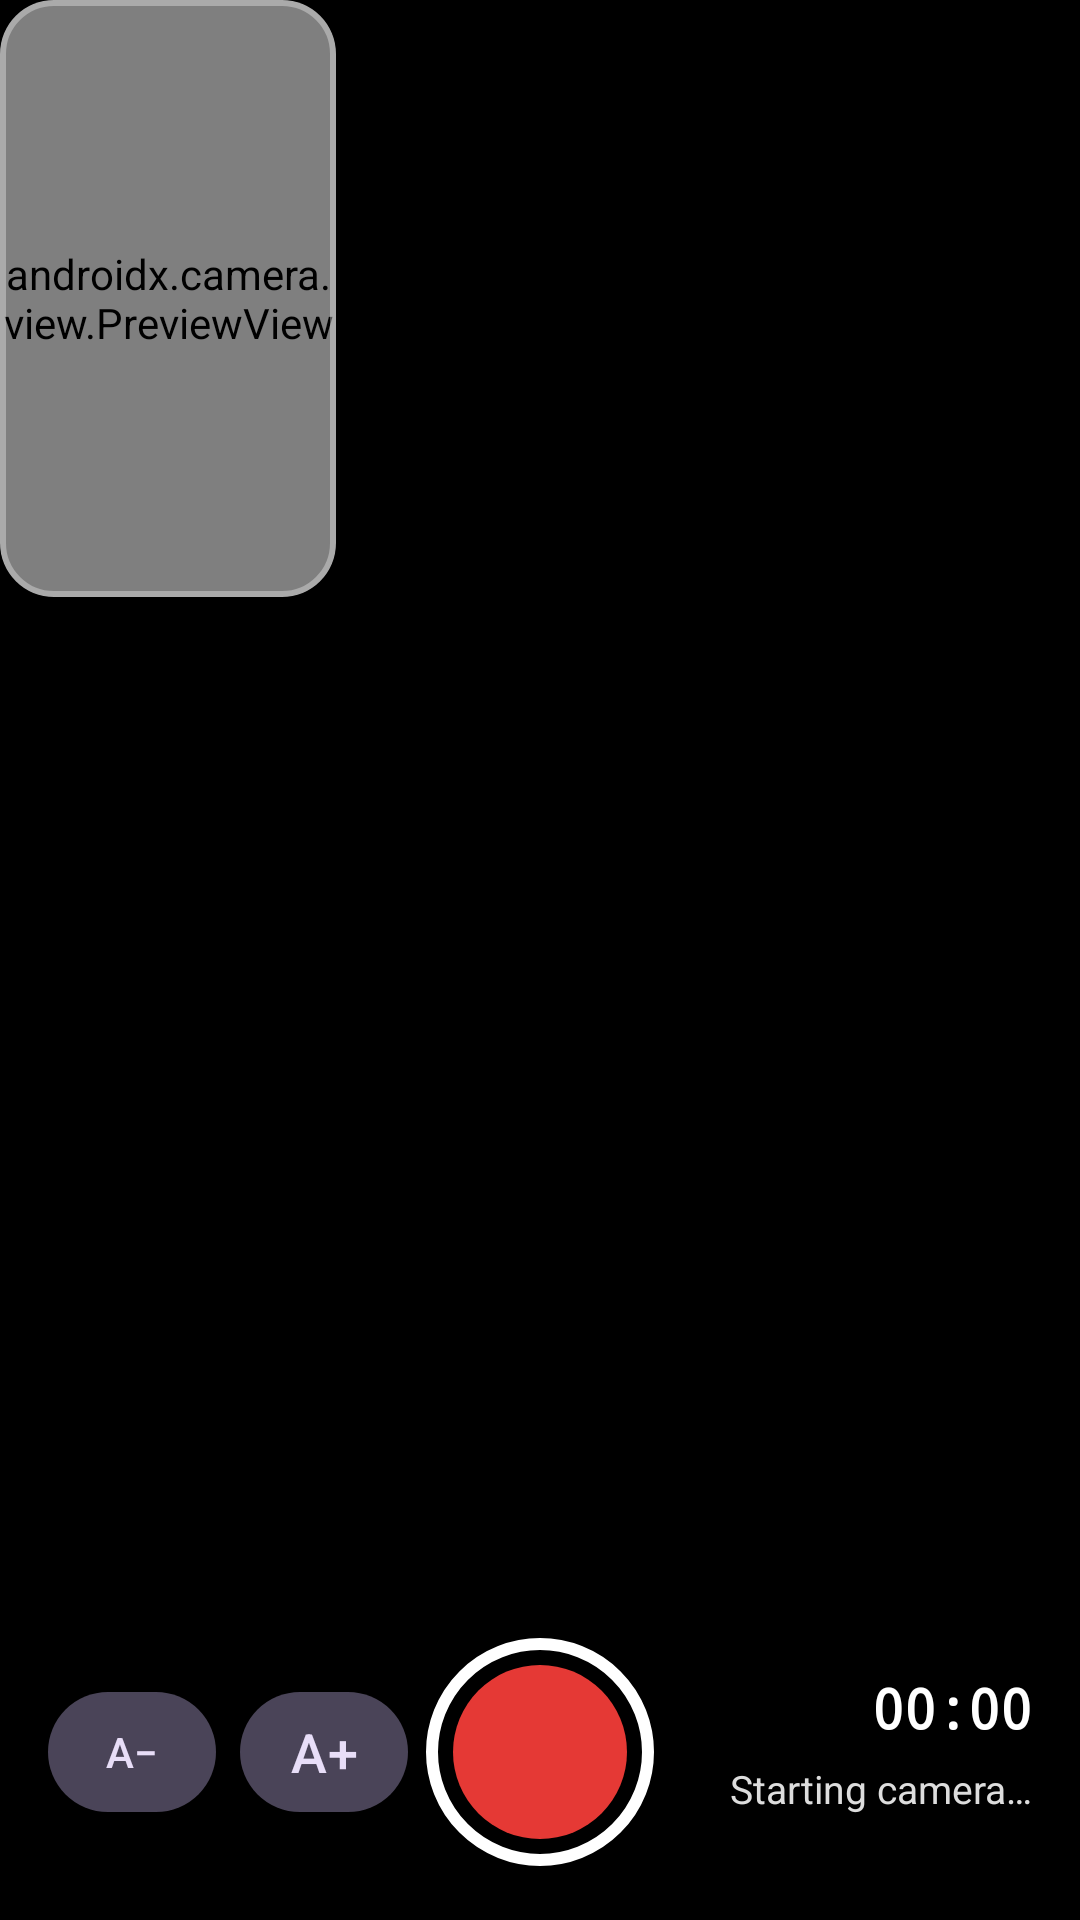

Icons on this 1080px x 1920px Android screen, each with the point to tap as (x,y):
Start or stop recording: (540,1752)
